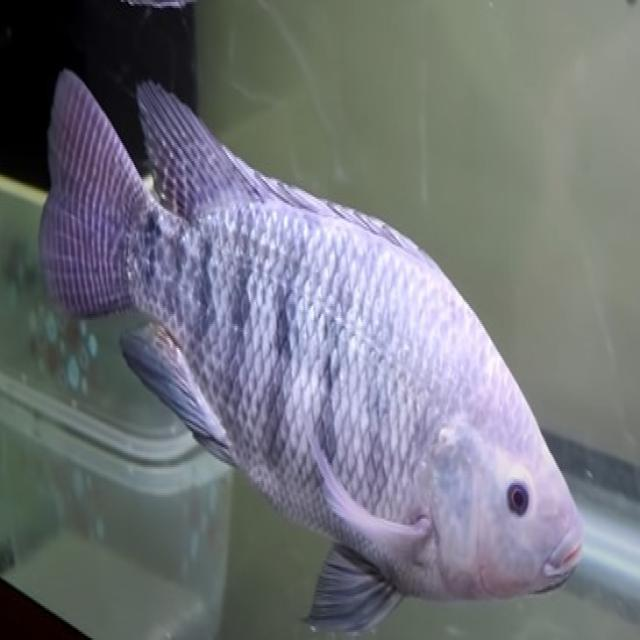ikan: (24, 32, 606, 616)
